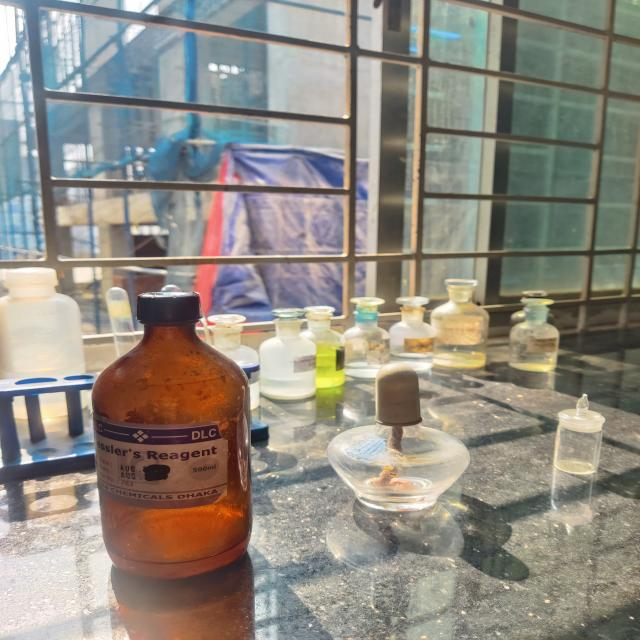Nessler_Reagent_Bottle: (84, 282, 272, 583)
Spirit_Lamp: (321, 358, 481, 514)
Weighing_Bottle: (542, 385, 621, 485)
